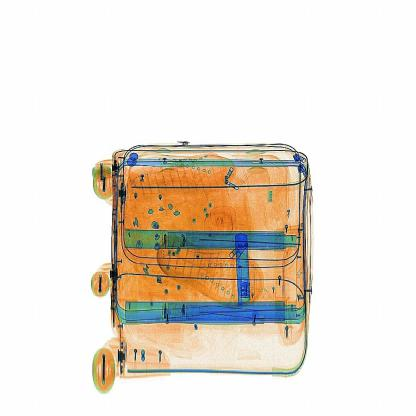pliers: (229, 218, 263, 310)
